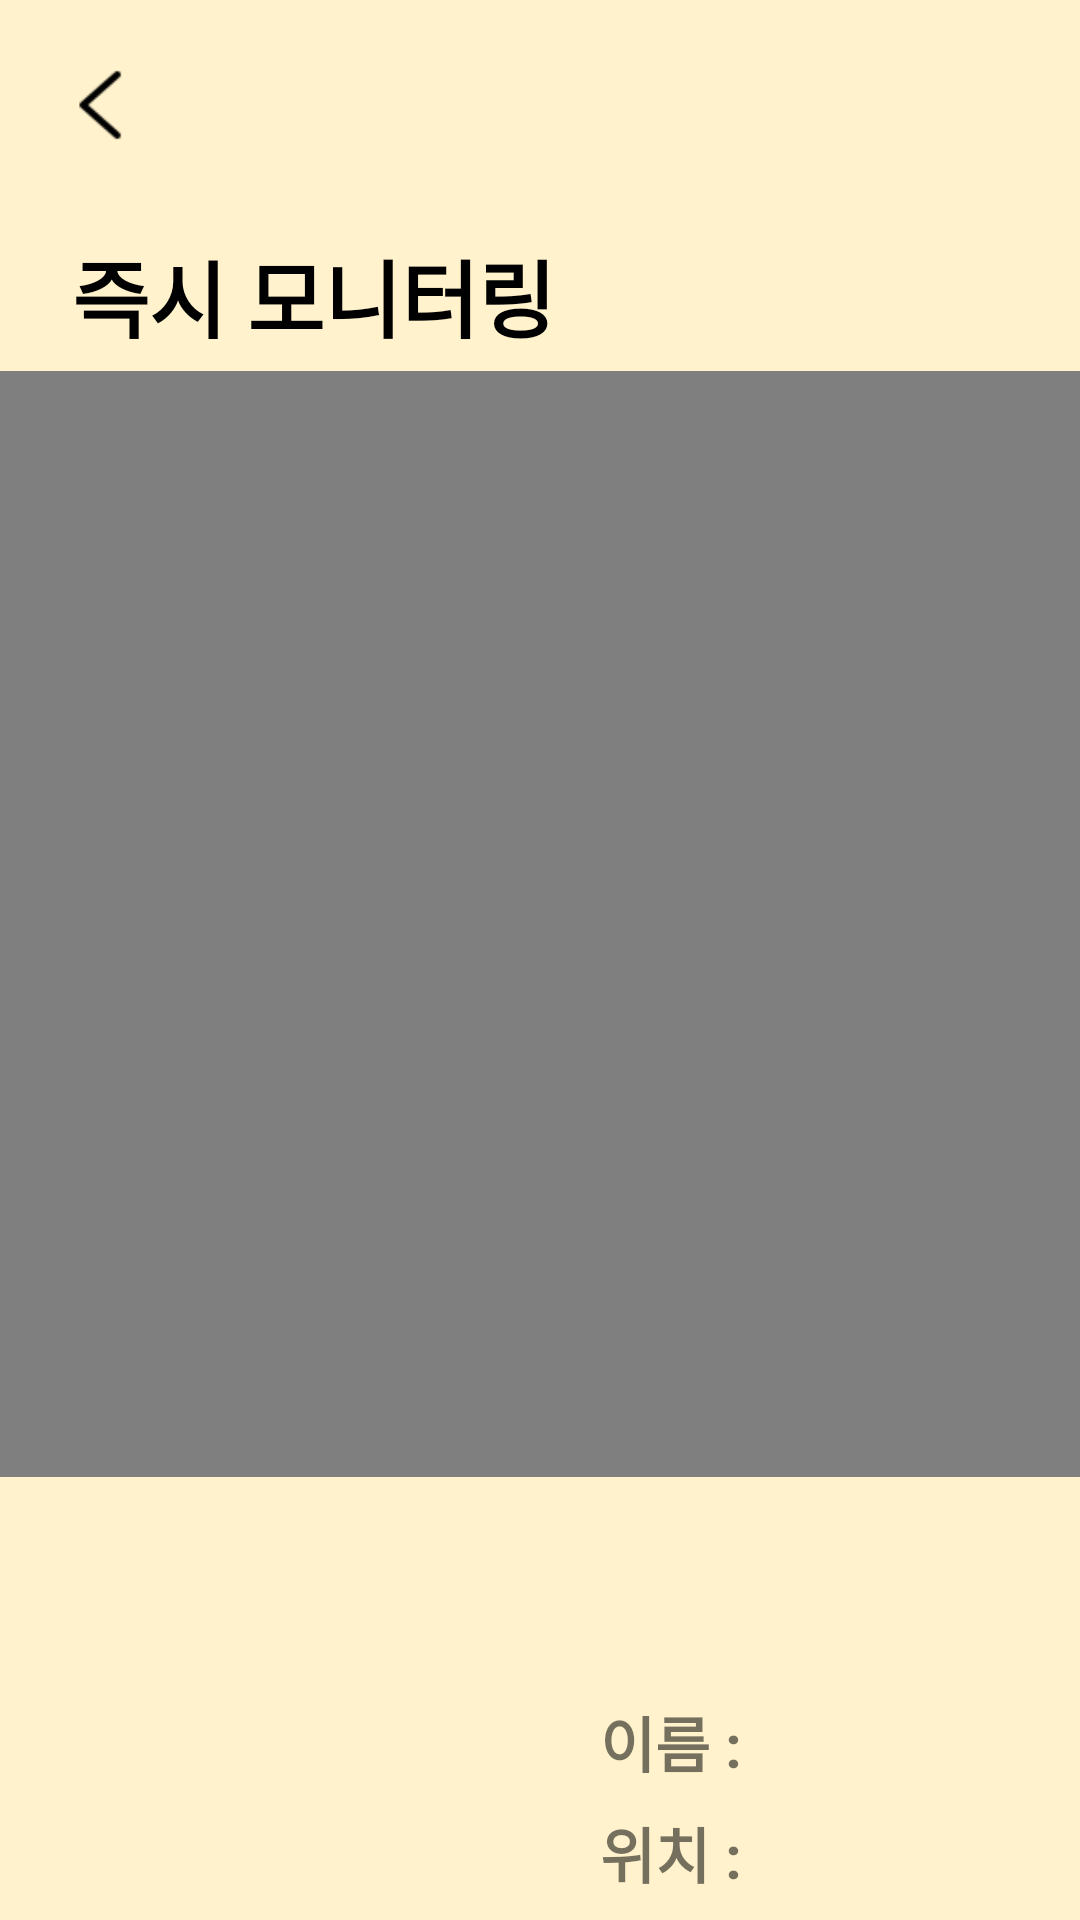

Screen size 1080px x 1920px. Icon name, then its center in pixels as (x,y):
back: (100,105)
